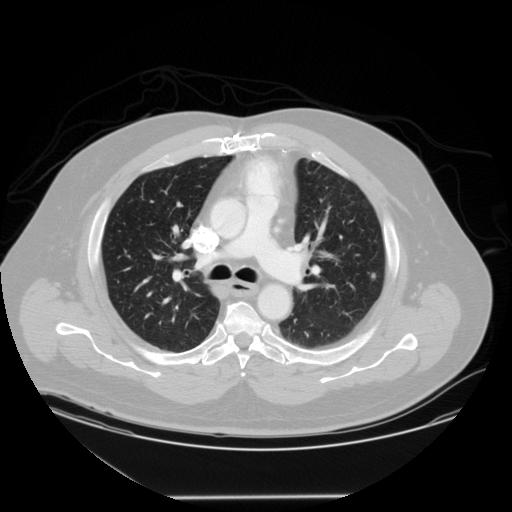nodule: (369, 271, 379, 281)
